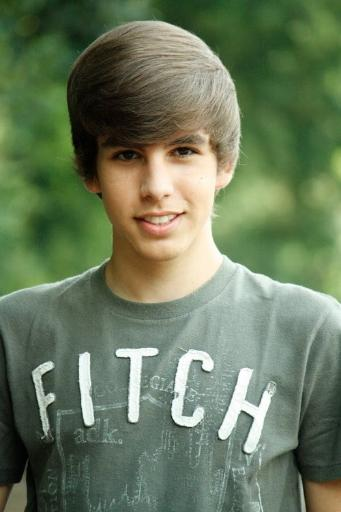left_eye: (169, 145, 203, 161)
left_lip_corner: (179, 209, 191, 220)
right_eye: (110, 149, 143, 164)
right_lip_corner: (130, 213, 141, 226)
